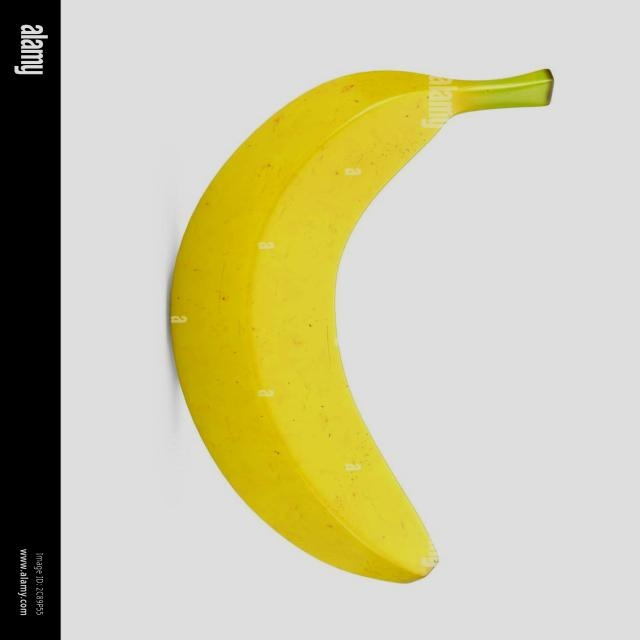agrume: (160, 63, 556, 585)
